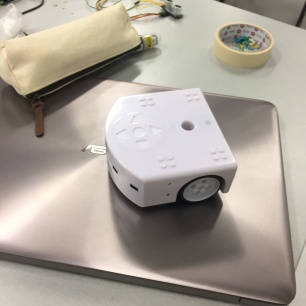thymio: (96, 85, 241, 211)
